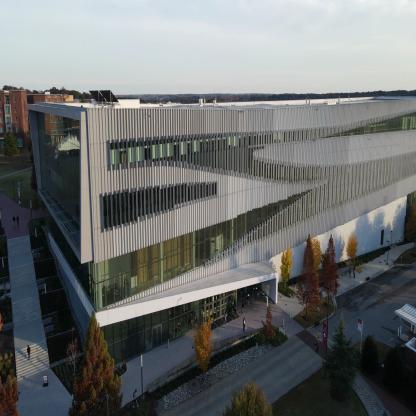Hunt Library: (21, 76, 415, 370)
